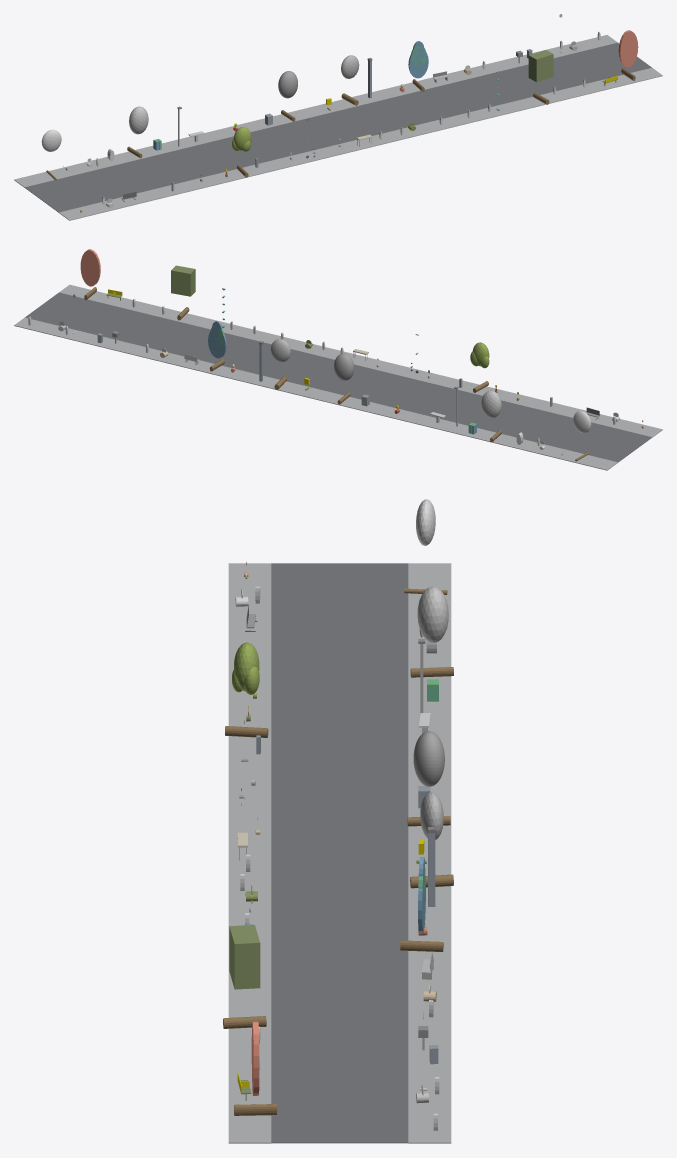
The picture shows the model from 3 angles, top to bottom: view 1: azimuth 30°, elevation 25°; view 2: azimuth 150°, elevation 25°; view 3: azimuth 270°, elevation 25°; orthographic projection. The views are drawn at different scales.
Visible parts, largest first — view 1: road_slab, sidewalk_left, sidewalk_right, inst_0024, inst_0025, inst_0023, inst_0019, inst_0021, inst_0020, inst_0022, inst_0018; view 2: road_slab, sidewalk_right, sidewalk_left, inst_0024, inst_0025, inst_0023, inst_0019, inst_0021, inst_0020, inst_0022, inst_0018; view 3: road_slab, sidewalk_left, sidewalk_right, inst_0024, inst_0019, inst_0020, inst_0021, inst_0022, inst_0025, inst_0023.
Part boxes in pixels (x1,y1,x2,y2): road_slab: [24, 42, 651, 212]; sidewalk_left: [59, 68, 662, 220]; sidewalk_right: [14, 35, 617, 187]; inst_0024: [528, 50, 553, 104]; inst_0025: [618, 30, 638, 80]; inst_0023: [408, 41, 428, 91]; inst_0019: [127, 106, 148, 158]; inst_0021: [278, 71, 297, 121]; inst_0020: [232, 127, 251, 177]; inst_0022: [341, 55, 359, 105]; inst_0018: [41, 129, 61, 180]; road_slab: [25, 292, 651, 462]; sidewalk_right: [14, 317, 617, 470]; sidewalk_left: [59, 284, 662, 437]; inst_0024: [171, 265, 195, 320]; inst_0025: [80, 249, 100, 300]; inst_0023: [208, 321, 226, 371]; inst_0019: [481, 390, 501, 442]; inst_0021: [334, 353, 354, 404]; inst_0020: [470, 342, 489, 392]; inst_0022: [270, 339, 290, 389]; inst_0018: [573, 411, 591, 461]; road_slab: [271, 563, 408, 1143]; sidewalk_left: [228, 563, 271, 1143]; sidewalk_right: [408, 563, 451, 1143]; inst_0024: [223, 925, 266, 1028]; inst_0019: [410, 586, 453, 677]; inst_0020: [225, 642, 268, 737]; inst_0021: [407, 731, 450, 826]; inst_0022: [410, 792, 453, 888]; inst_0025: [234, 1021, 277, 1115]; inst_0023: [400, 857, 443, 951].
Size of the model in its own units: 80 by 6.08 by 13.48.
